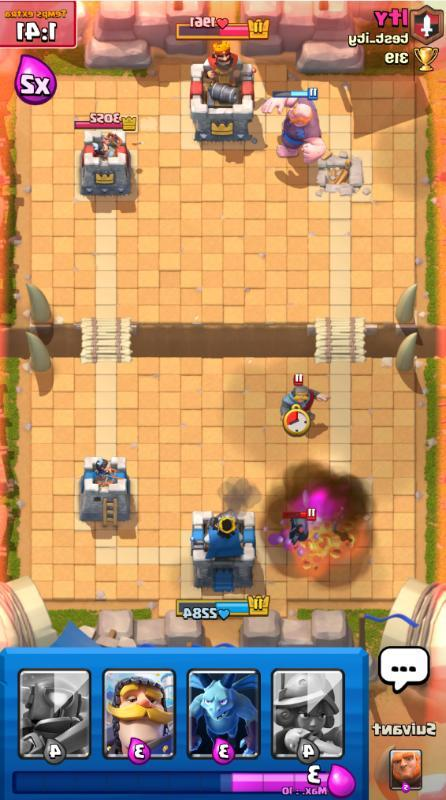chevalier: (280, 373, 330, 422)
geant: (261, 88, 327, 164)
mini_PEKKA: (282, 489, 316, 545)
